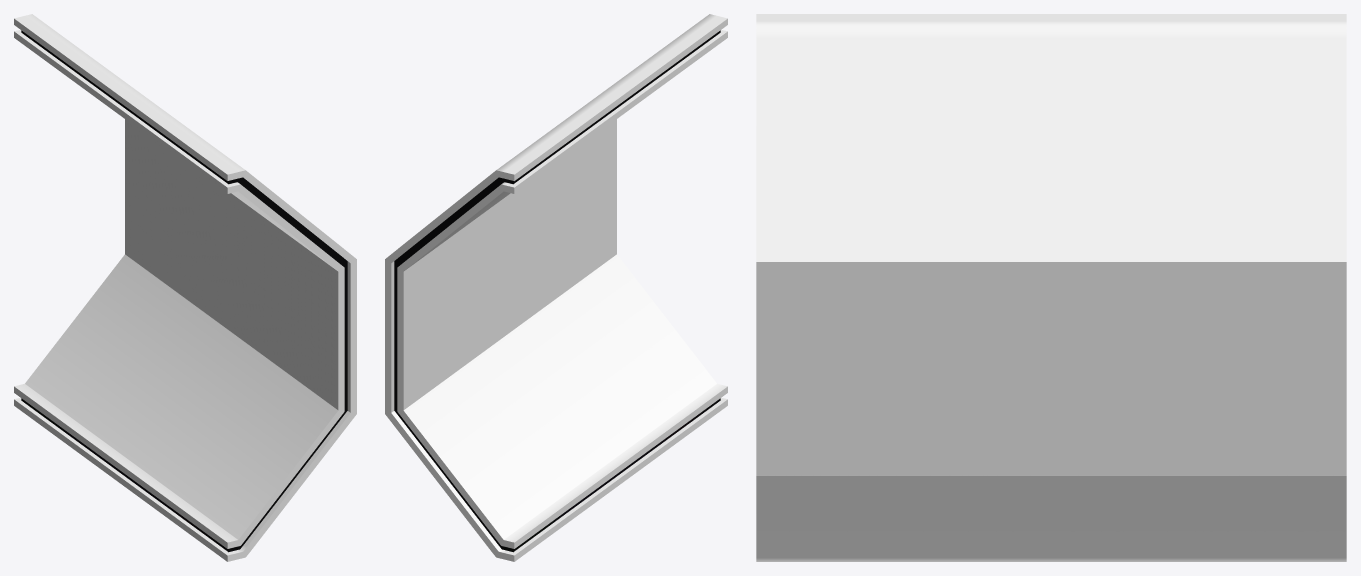
File: Futuristic_wall1.fbx
The picture shows the model from 3 angles, left to right: view 1: azimuth 30°, elevation 25°; view 2: azimuth 150°, elevation 25°; view 3: azimuth 270°, elevation 25°; orthographic projection. The views are drawn at different scales.
Visible parts, largest first — view 1: Wall; view 2: Wall; view 3: Wall.
Part boxes in pixels (x1,y1,x2,y2): Wall: (14, 14, 356, 561); Wall: (385, 14, 727, 561); Wall: (756, 14, 1346, 561).
Size of the model in its own units: 700 by 2002 by 2000.
